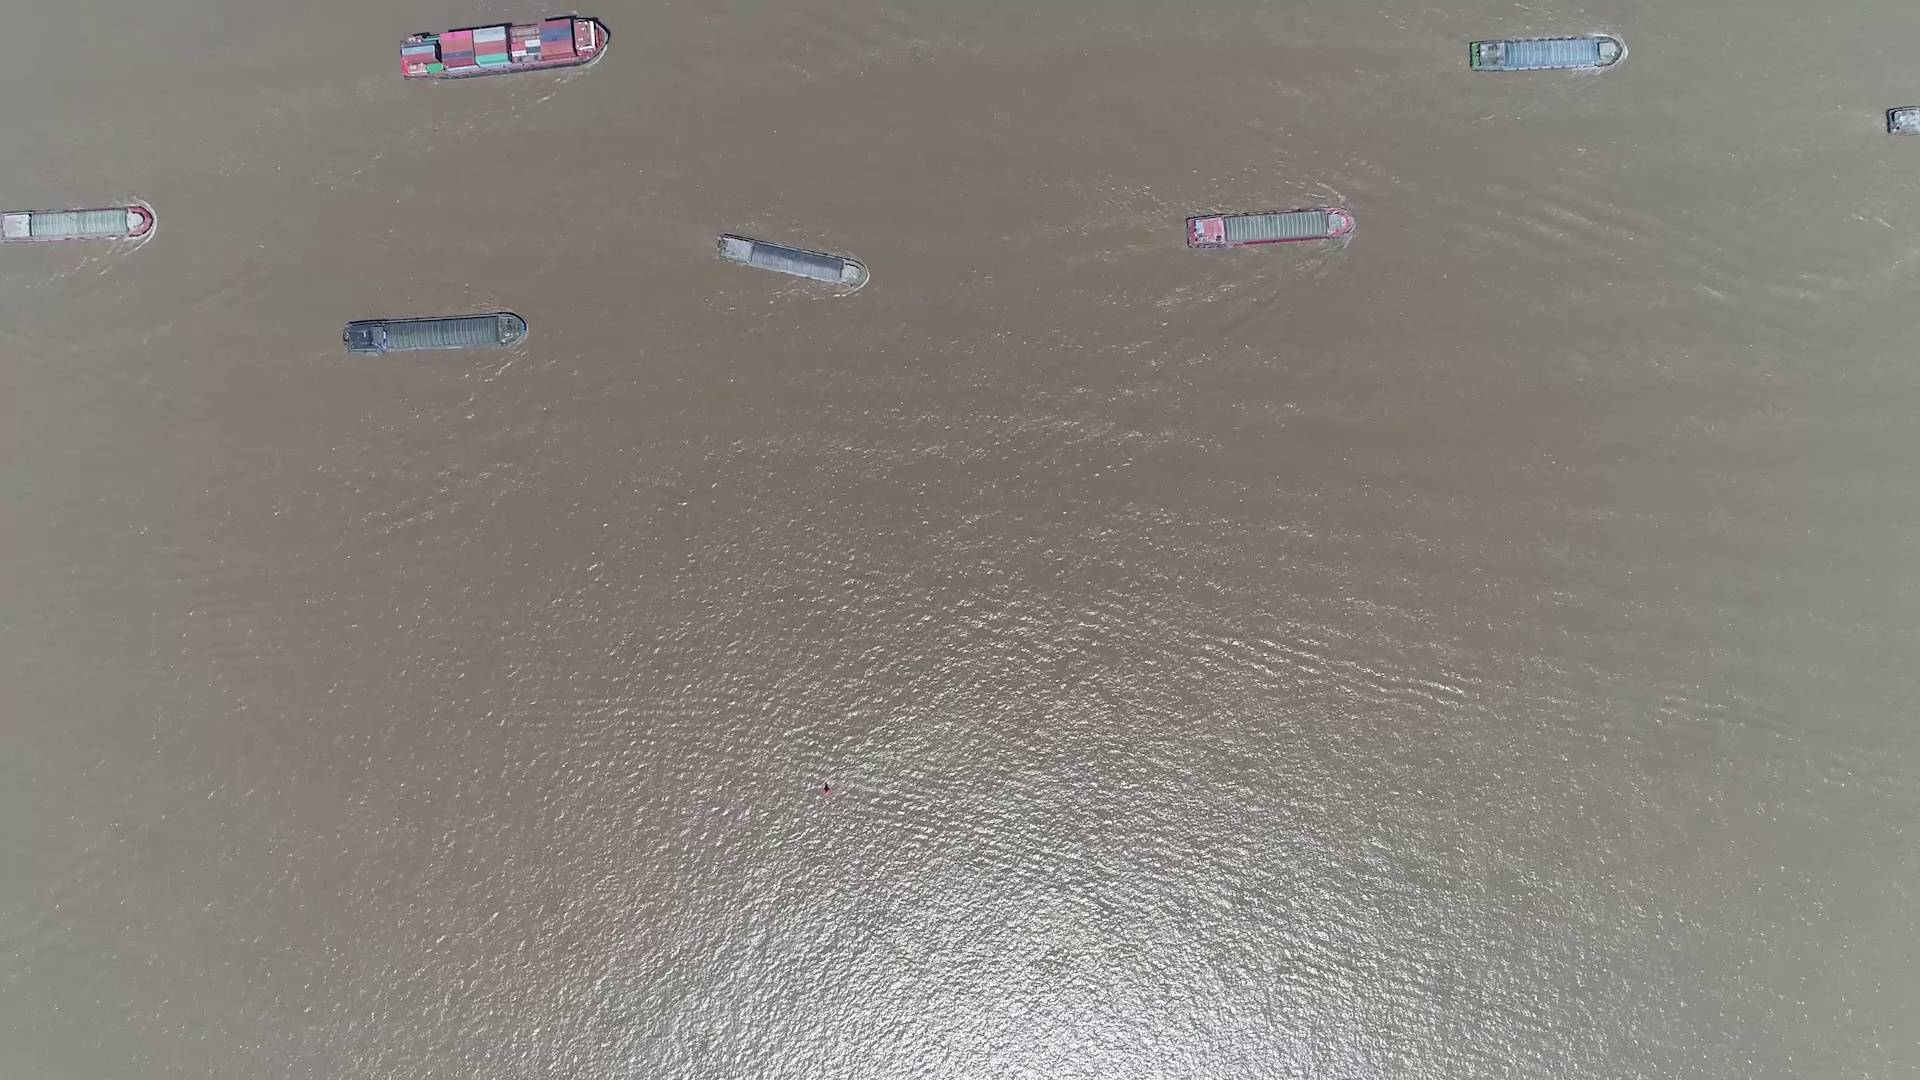ship: (397, 20, 605, 78), (715, 233, 868, 290), (343, 313, 525, 353), (1184, 207, 1356, 247), (1469, 36, 1621, 73), (1, 207, 153, 240)
